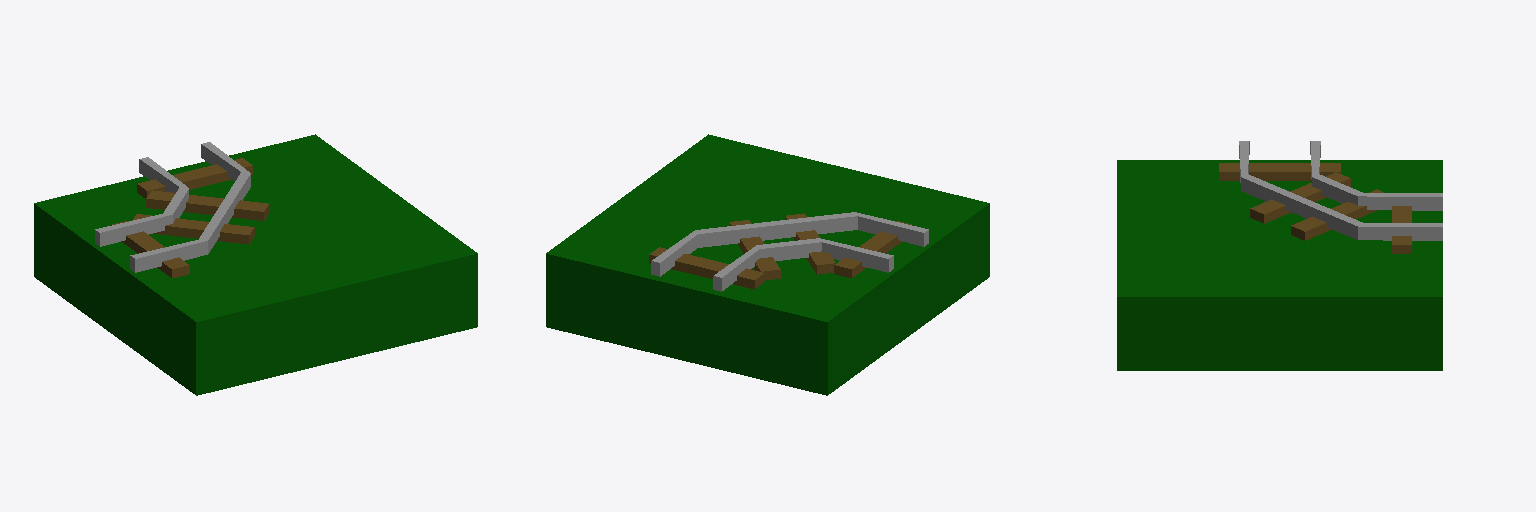
3 renders of one model, left to right at view 1: azimuth 30°, elevation 25°; view 2: azimuth 150°, elevation 25°; view 3: azimuth 270°, elevation 25°, orthographic.
Parts seen in each view (by area): view 1: grass, rail, wood; view 2: grass, rail, wood; view 3: grass, rail, wood.
Boxes of the visible parts, x1=… form: grass: x1=34, y1=134, x2=477, y2=395; rail: x1=95, y1=142, x2=250, y2=272; wood: x1=111, y1=158, x2=268, y2=277; grass: x1=546, y1=134, x2=989, y2=395; rail: x1=651, y1=212, x2=928, y2=291; wood: x1=649, y1=213, x2=912, y2=289; grass: x1=1117, y1=160, x2=1442, y2=370; rail: x1=1239, y1=141, x2=1442, y2=240; wood: x1=1219, y1=163, x2=1411, y2=253.
Bounding box in the file's own units: 1 × 0.3125 × 1.
3 materials, 3 textured.